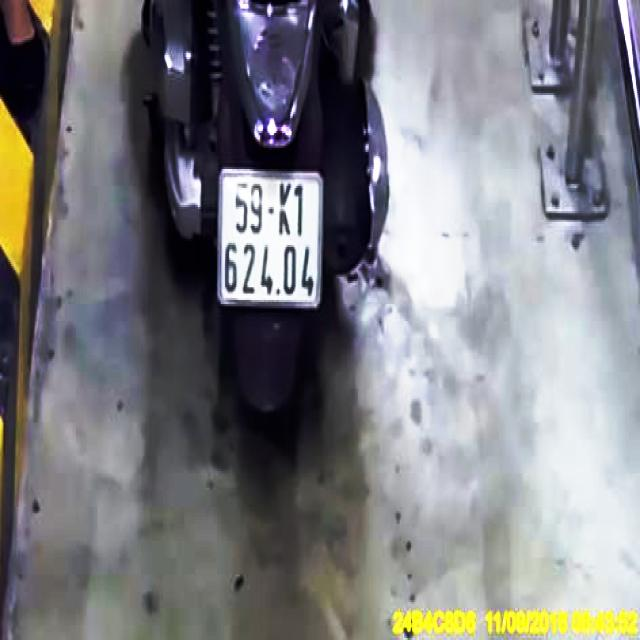license_plate: (219, 170, 324, 307)
